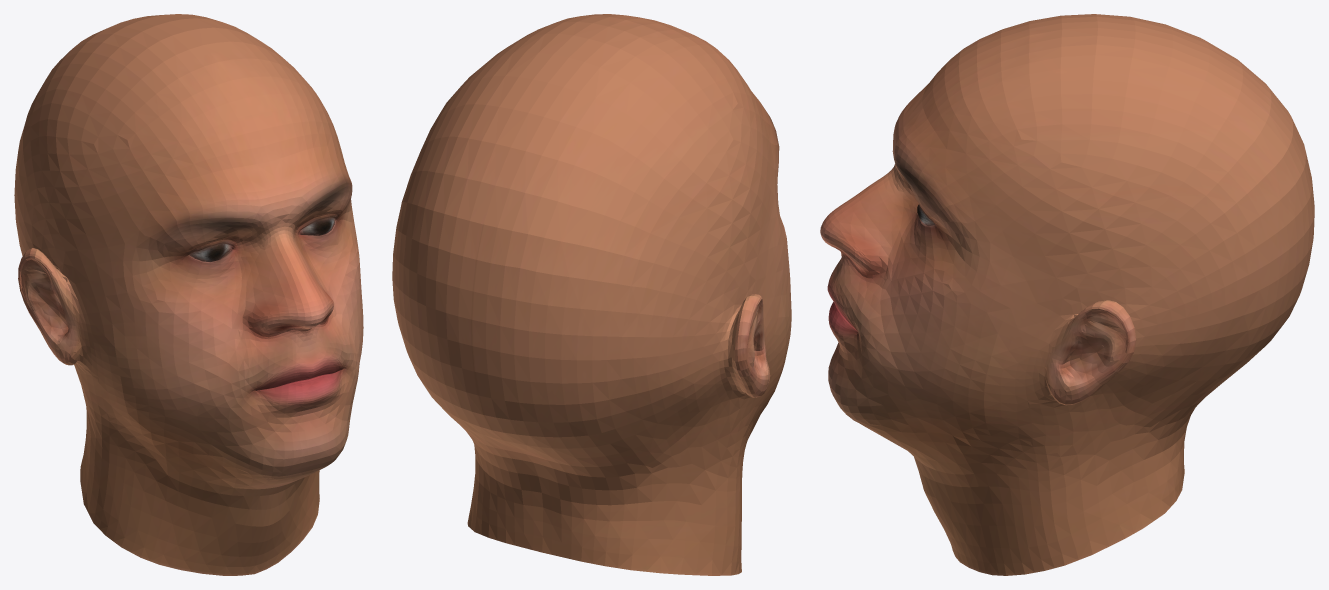
The model's file is face_youngmale.obj.
3 renders of one model, left to right at view 1: azimuth 30°, elevation 25°; view 2: azimuth 150°, elevation 25°; view 3: azimuth 270°, elevation 25°, orthographic. The views are drawn at different scales.
Parts seen in each view (by area): view 1: skin_hi, eyeR_hi; view 2: skin_hi; view 3: skin_hi.
Boxes of the visible parts, left/top/right/bottom form: skin_hi: left=14, top=14, right=363, bottom=575; eyeR_hi: left=189, top=243, right=231, bottom=261; skin_hi: left=392, top=14, right=791, bottom=575; skin_hi: left=820, top=14, right=1314, bottom=575.
Bounding box in the file's own units: 182 × 278 × 239.
Materials: 7 (7 with a texture image).
